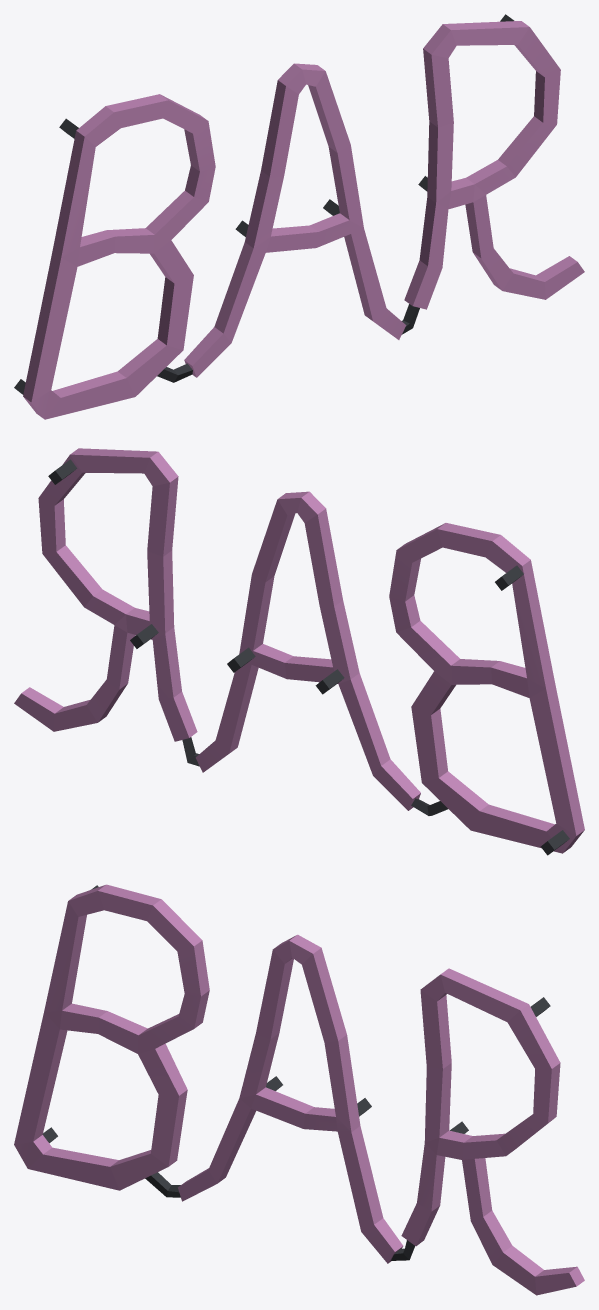
File: SM_Prop_Sign_Bar_02.obj
The picture shows the model from 3 angles, top to bottom: view 1: azimuth 30°, elevation 25°; view 2: azimuth 150°, elevation 25°; view 3: azimuth 330°, elevation 25°; orthographic projection.
Visible parts, largest first — view 1: SM_Prop_Sign_Bar_02_0; view 2: SM_Prop_Sign_Bar_02_0; view 3: SM_Prop_Sign_Bar_02_0.
Part boxes in pixels (x1,y1,x2,y2): SM_Prop_Sign_Bar_02_0: (14, 14, 584, 419); SM_Prop_Sign_Bar_02_0: (14, 448, 584, 855); SM_Prop_Sign_Bar_02_0: (14, 884, 584, 1295).
Size of the model in its own units: 1.18 by 0.6089 by 0.0901.
Materials: 1 (1 with a texture image).
